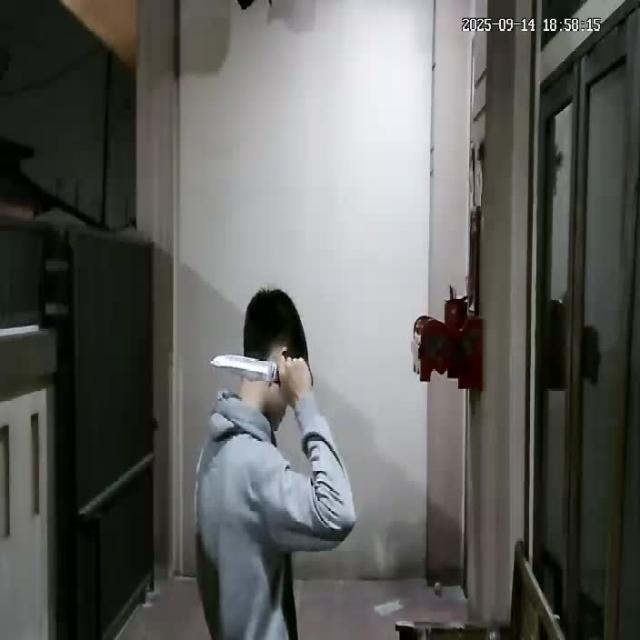senjata_tajam: (207, 352, 281, 386)
